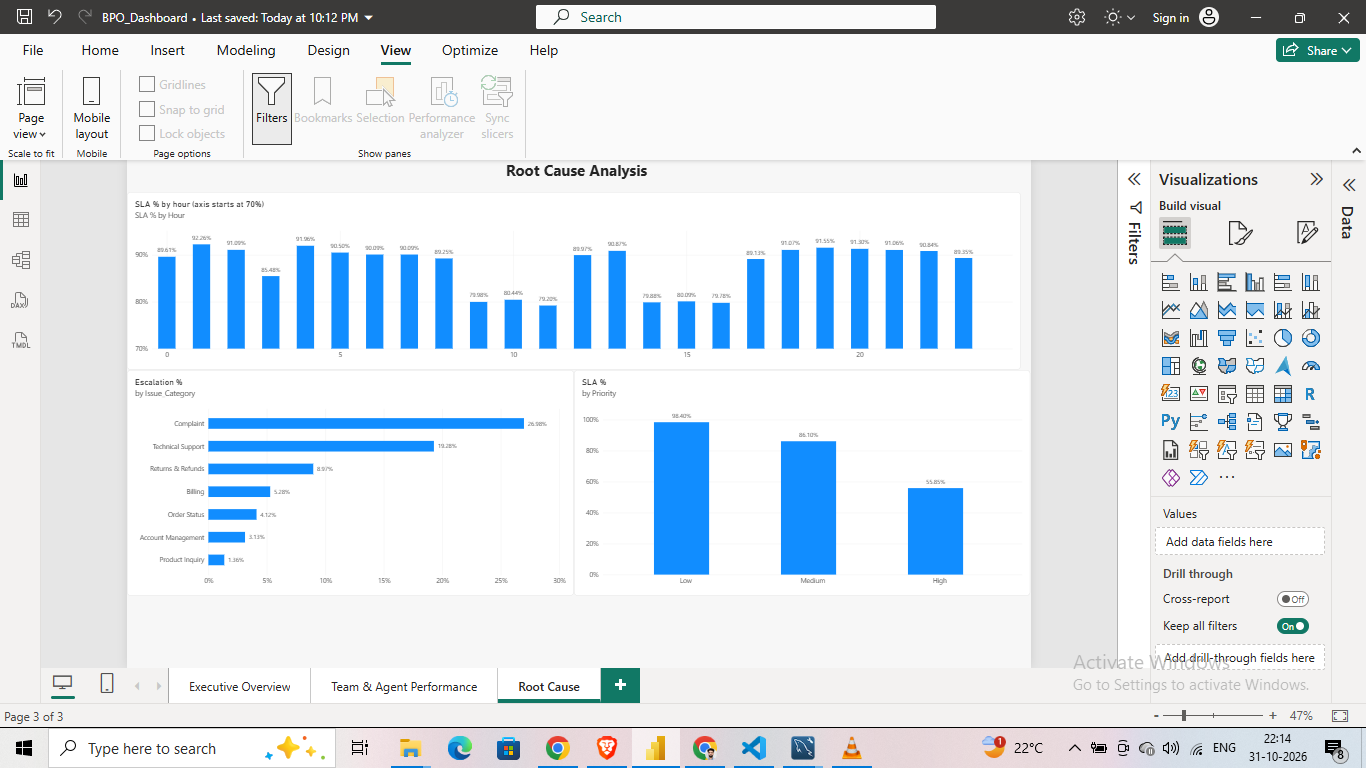

Layout of this report page (visuals, bound fields, positions):
{"tool":"powerbi","page":{"name":"Root Cause","canvas":[1920,1080],"ordinal":2},"visuals":[{"type":"textbox","box":[10,0,1890,68],"z":0},{"type":"clusteredColumnChart","title":"SLA % by hour (axis starts at 70%)","fields":{"Category":["Interactions.Hour"],"Y":["Interactions.SLA %"]},"box":[0,68,1900,378],"z":1},{"type":"clusteredBarChart","fields":{"Category":["Interactions.Issue_Category"],"Y":["Interactions.Escalation %"]},"box":[0,446,950,480],"z":2},{"type":"clusteredColumnChart","fields":{"Category":["Interactions.Priority"],"Y":["Interactions.SLA %"]},"box":[950,446,970,480],"z":3}]}

Visuals, with their boxes on the page's 1920x1080 design canvas (x1, y1, x2, y2). These are canvas units, not pixel positions in the 1366x768 screenshot, which may show the page scaled, cropped or inside an application window:
textbox: bbox=(10, 0, 1900, 68)
"SLA % by hour (axis starts at 70%)" clusteredColumnChart: bbox=(0, 68, 1900, 446)
clusteredBarChart - Interactions.Issue_Category x Interactions.Escalation %: bbox=(0, 446, 950, 926)
clusteredColumnChart - Interactions.Priority x Interactions.SLA %: bbox=(950, 446, 1920, 926)
